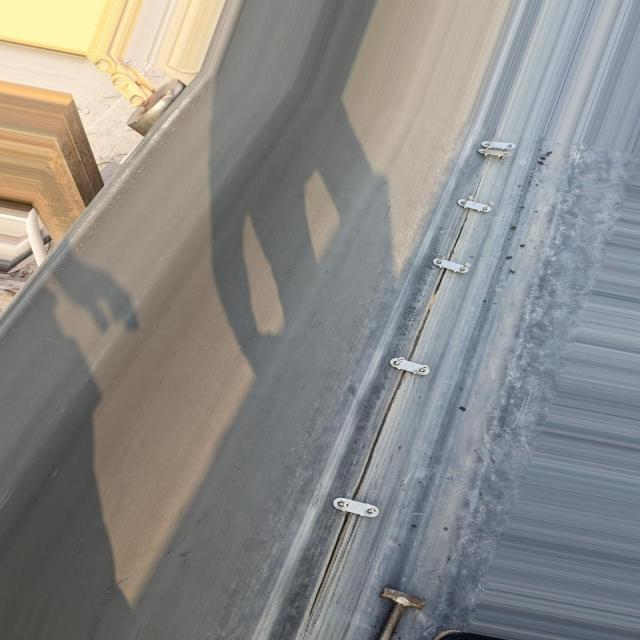Other Objects: (377, 584, 430, 640)
patch work: (307, 138, 517, 617)
